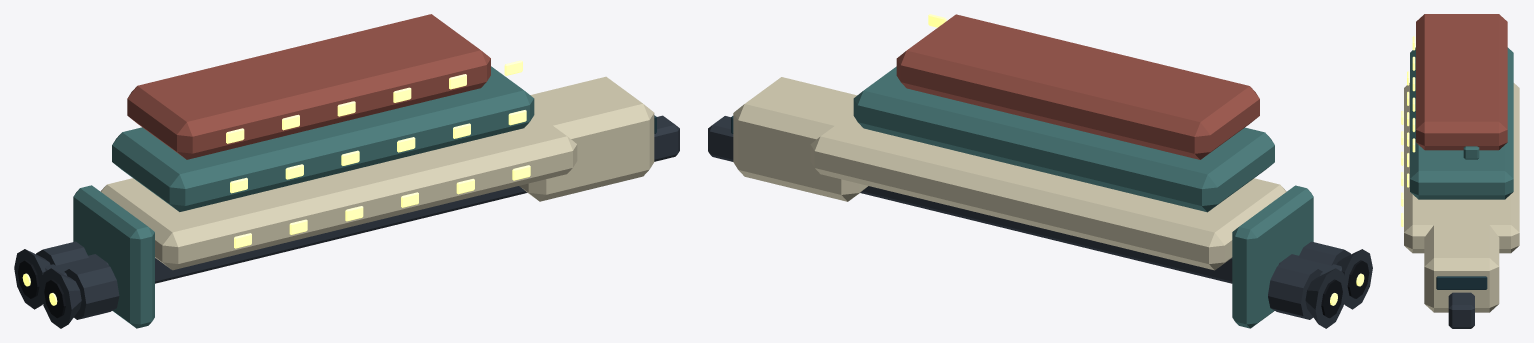
File: continental-service.glb
The picture shows the model from 3 angles, left to right: view 1: azimuth 30°, elevation 25°; view 2: azimuth 150°, elevation 25°; view 3: azimuth 270°, elevation 25°; orthographic projection. The views are drawn at different scales.
Visible parts, largest first — view 1: passenger deck.002, passenger deck, passenger deck.001, forward command, reactor shield, structural spine, engine jacket, engine bell, engine bell.001, engine jacket.001, engine throat.001, engine throat; view 2: passenger deck.002, passenger deck, passenger deck.001, forward command, reactor shield, structural spine, engine jacket.001, engine bell.001, engine bell, engine jacket, engine throat.001, engine throat; view 3: passenger deck.002, passenger deck.001, passenger deck, forward command, structural spine, bridge glazing, sensor head.
Part boxes in pixels (box(x1,y1,x2,y2)): passenger deck.002: box(127, 14, 490, 159); passenger deck: box(100, 112, 577, 270); passenger deck.001: box(112, 66, 534, 211); forward command: box(519, 76, 654, 201); reactor shield: box(73, 185, 154, 328); structural spine: box(45, 115, 679, 283); engine jacket: box(64, 261, 119, 319); engine bell: box(40, 268, 81, 328); engine bell.001: box(14, 249, 50, 309); engine jacket.001: box(36, 241, 88, 265); engine throat.001: box(18, 260, 39, 298); engine throat: box(44, 279, 65, 318); passenger deck.002: box(896, 14, 1259, 159); passenger deck: box(810, 112, 1286, 270); passenger deck.001: box(853, 66, 1274, 212); forward command: box(733, 77, 867, 201); reactor shield: box(1232, 185, 1313, 328); structural spine: box(708, 116, 1341, 283); engine jacket.001: box(1268, 261, 1322, 319); engine bell.001: box(1305, 268, 1346, 328); engine bell: box(1336, 249, 1372, 309); engine jacket: box(1298, 241, 1350, 265); engine throat.001: box(1321, 279, 1342, 318); engine throat: box(1347, 260, 1369, 298); passenger deck.002: box(1416, 14, 1507, 150); passenger deck.001: box(1410, 47, 1513, 199); passenger deck: box(1404, 83, 1519, 253); forward command: box(1424, 221, 1499, 312); structural spine: box(1448, 292, 1474, 328); bridge glazing: box(1436, 276, 1487, 289); sensor head: box(1463, 146, 1479, 159).
Bounding box in the file's own units: 11.39 × 3.27 × 2.46.
